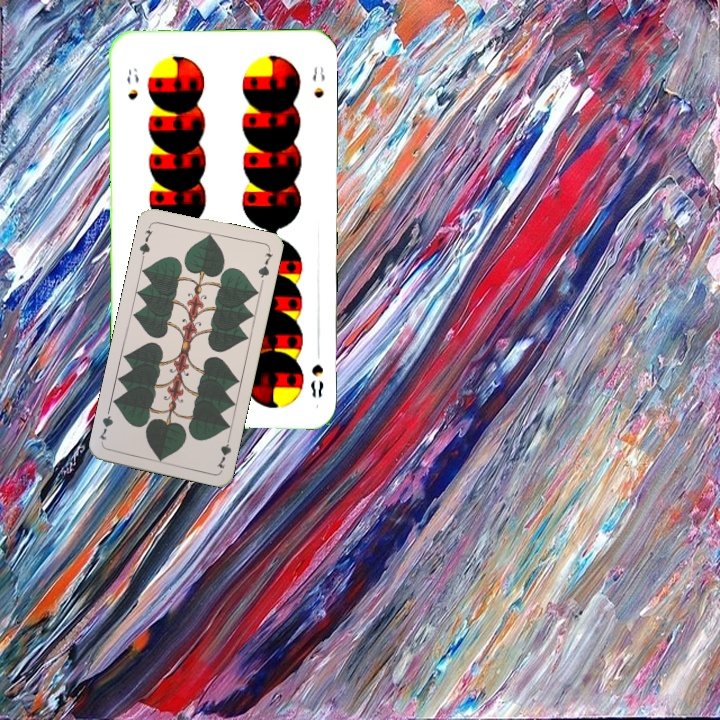G7: (213, 431, 234, 471), (135, 226, 155, 261)
S8: (306, 360, 326, 400), (123, 64, 142, 102)
